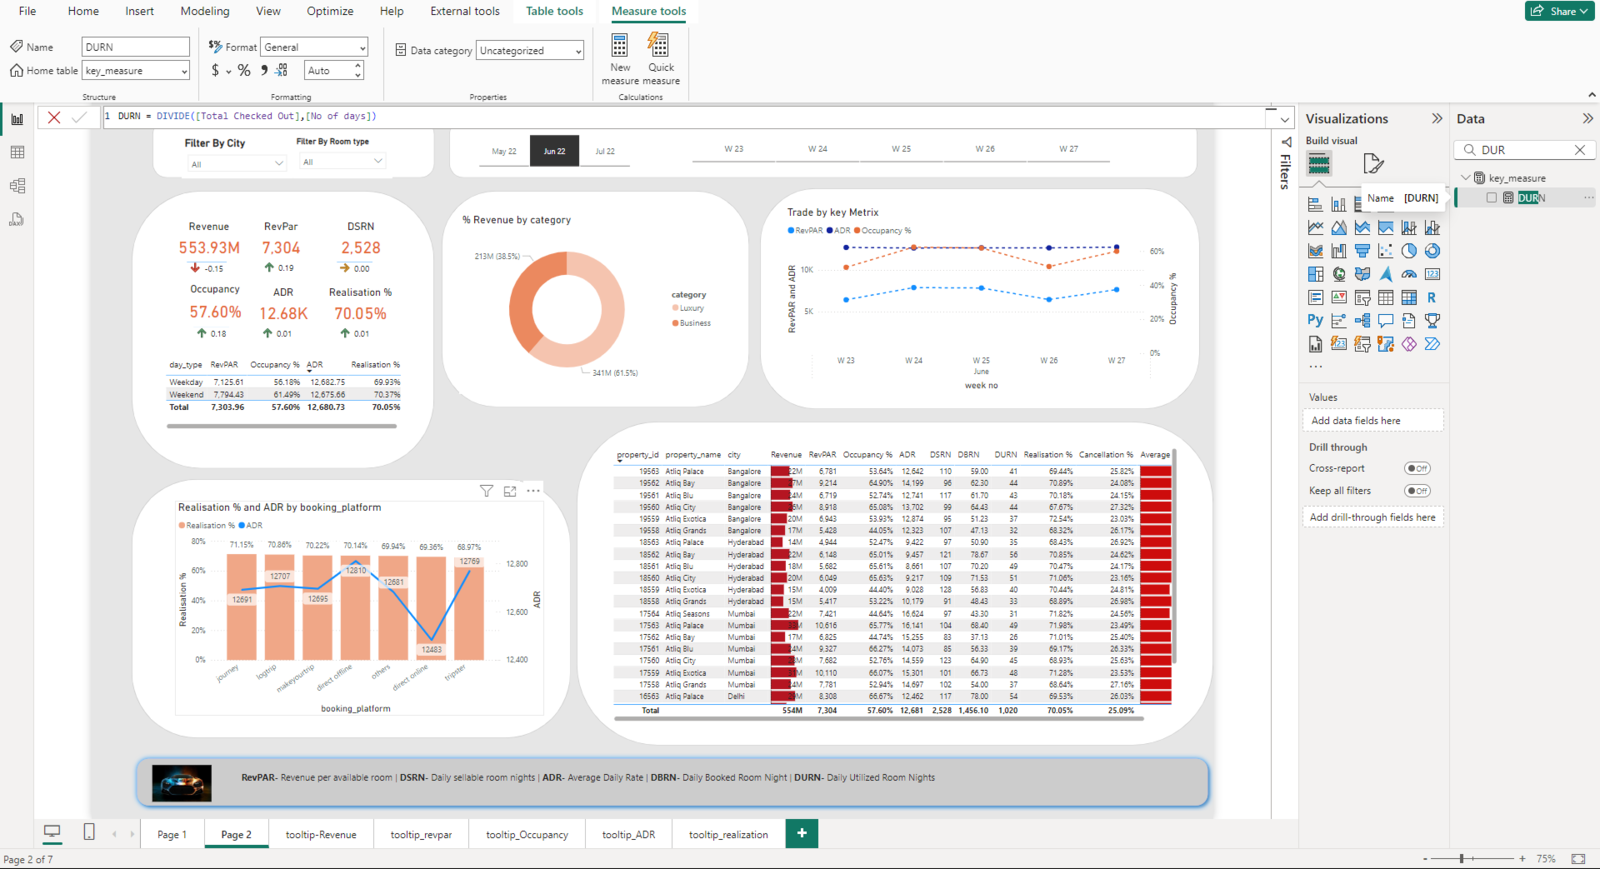

This screenshot's page, from the dashboard's own definition file:
{"tool":"powerbi","page":{"name":"Page 2","canvas":[1800,1150],"ordinal":1},"visuals":[{"type":"shape","box":[778.3,511.6,1021.7,519.8],"z":0},{"type":"shape","box":[64.3,604.6,704.4,415.8],"z":1000},{"type":"shape","box":[1072.3,138.1,705.8,354.3],"z":2000},{"type":"shape","box":[562.2,142.2,493.8,347.4],"z":3000},{"type":"shape","box":[64.3,142.2,485.6,445.9],"z":4000},{"type":"shape","box":[573.1,28.7,1200.9,93],"z":5000},{"type":"shape","box":[97.1,28.7,452.7,93],"z":6000},{"type":"tableEx","fields":{"Values":["dim_hotels.property_id","dim_hotels.property_name","dim_hotels.city","key_measure.Revenue","key_measure.RevPAR","key_measure.Occupancy %","key_measure.ADR","key_measure.DSRN","key_measure.DBRN","key_measure.DURN","key_measure.Realisation %","key_measure.Cancellation %"]},"box":[831.6,549.8,915,448.6],"z":7000},{"type":"slicer","title":"Filter By City","fields":{"Values":["dim_hotels.city"]},"box":[145,54.7,179.2,67],"z":8000},{"type":"slicer","title":"Filter By Room type","fields":{"Values":["dim_date.mmm yy"]},"box":[596.4,45.1,291.3,64.3],"z":9000},{"type":"slicer","title":"Filter By Room type","fields":{"Values":["dim_rooms.room_class"]},"box":[324.2,54.7,158.7,67],"z":10000},{"type":"slicer","fields":{"Values":["dim_date.week no"]},"box":[938.3,45.1,719.5,57.4],"z":11000},{"type":"tableEx","fields":{"Values":["key_measure.Revenue WoW change %"]},"box":[147.1,223,80.7,66.1],"z":12000},{"type":"donutChart","title":"% Revenue by category","fields":{"Category":["dim_hotels.category"],"Y":["key_measure.Revenue"]},"box":[589.5,177.8,419.9,290],"z":13000},{"type":"card","title":"Revenue","fields":{"Values":["key_measure.Revenue"]},"box":[126.7,189,122.6,67.1],"z":14000},{"type":"tableEx","fields":{"Values":["key_measure.Realisation WoW change %"]},"box":[387.4,328.1,80.7,66.1],"z":15000},{"type":"tableEx","fields":{"Values":["key_measure.ADR WoW change %"]},"box":[262.9,328.1,80.7,66.1],"z":16000},{"type":"tableEx","fields":{"Values":["key_measure.Occupancy WoW change %"]},"box":[157.8,328.1,80.7,66.1],"z":17000},{"type":"tableEx","fields":{"Values":["key_measure.DSRN WoW change %"]},"box":[387.4,223,80.7,66.1],"z":18000},{"type":"card","title":"DSRN","fields":{"Values":["key_measure.DSRN"]},"box":[366.6,188.8,131.3,67],"z":19000},{"type":"card","title":"Occupancy","fields":{"Values":["key_measure.Occupancy %"]},"box":[147.1,289.1,102.1,72],"z":20000},{"type":"card","title":"ADR","fields":{"Values":["key_measure.ADR"]},"box":[249.2,294,117.7,67.1],"z":21000},{"type":"card","title":"Realisation %","fields":{"Values":["key_measure.Realisation %"]},"box":[370.7,294.1,121.7,67],"z":22000},{"type":"lineChart","title":"Trade by key Metrix","fields":{"Category":["dim_date.mmm yy.Variation.Date Hierarchy.Month","dim_date.week no"],"Y":["key_measure.RevPAR","key_measure.ADR"],"Y2":["key_measure.Occupancy %"]},"box":[1110.6,165.5,636,300.9],"z":23000},{"type":"lineStackedColumnComboChart","fields":{"Category":["fact_bookings.booking_platform"],"Y":["key_measure.Realisation %"],"Y2":["key_measure.ADR"]},"box":[134,638.8,592.2,346],"z":24000},{"type":"tableEx","fields":{"Values":["dim_date.day_type","key_measure.RevPAR","key_measure.Occupancy %","key_measure.ADR","key_measure.Realisation %"]},"box":[113.5,404.9,387.1,124.5],"z":25000},{"type":"shape","box":[64.3,1045,1735.7,93],"z":26000},{"type":"image","box":[91.6,1036.8,105.3,113.5],"z":27000},{"type":"textbox","box":[235.3,1066.9,1519.6,49.2],"z":28000},{"type":"tableEx","fields":{"Values":["key_measure.Revpar WoW change %"]},"box":[266.7,221.6,80.7,67],"z":29000},{"type":"card","title":"RevPar","fields":{"Values":["key_measure.RevPAR"]},"box":[240.5,189,126.4,67.1],"z":30000}]}

Visuals, with their boxes on the page's 1800x1150 design canvas (x1, y1, x2, y2). These are canvas units, not pixel positions in the 1600x869 screenshot, which may show the page scaled, cropped or inside an application window:
shape: BBox(778, 512, 1800, 1031)
shape: BBox(64, 605, 769, 1020)
shape: BBox(1072, 138, 1778, 492)
shape: BBox(562, 142, 1056, 490)
shape: BBox(64, 142, 550, 588)
shape: BBox(573, 29, 1774, 122)
shape: BBox(97, 29, 550, 122)
tableEx - dim_hotels.property_id x dim_hotels.property_name: BBox(832, 550, 1747, 998)
"Filter By City" slicer: BBox(145, 55, 324, 122)
"Filter By Room type" slicer: BBox(596, 45, 888, 109)
"Filter By Room type" slicer: BBox(324, 55, 483, 122)
slicer - dim_date.week no: BBox(938, 45, 1658, 102)
tableEx - key_measure.Revenue WoW change %: BBox(147, 223, 228, 289)
"% Revenue by category" donutChart: BBox(590, 178, 1009, 468)
"Revenue" card: BBox(127, 189, 249, 256)
tableEx - key_measure.Realisation WoW change %: BBox(387, 328, 468, 394)
tableEx - key_measure.ADR WoW change %: BBox(263, 328, 344, 394)
tableEx - key_measure.Occupancy WoW change %: BBox(158, 328, 238, 394)
tableEx - key_measure.DSRN WoW change %: BBox(387, 223, 468, 289)
"DSRN" card: BBox(367, 189, 498, 256)
"Occupancy" card: BBox(147, 289, 249, 361)
"ADR" card: BBox(249, 294, 367, 361)
"Realisation %" card: BBox(371, 294, 492, 361)
"Trade by key Metrix" lineChart: BBox(1111, 166, 1747, 466)
lineStackedColumnComboChart - fact_bookings.booking_platform x key_measure.Realisation %: BBox(134, 639, 726, 985)
tableEx - dim_date.day_type x key_measure.RevPAR: BBox(114, 405, 501, 529)
shape: BBox(64, 1045, 1800, 1138)
image: BBox(92, 1037, 197, 1150)
textbox: BBox(235, 1067, 1755, 1116)
tableEx - key_measure.Revpar WoW change %: BBox(267, 222, 347, 289)
"RevPar" card: BBox(240, 189, 367, 256)
